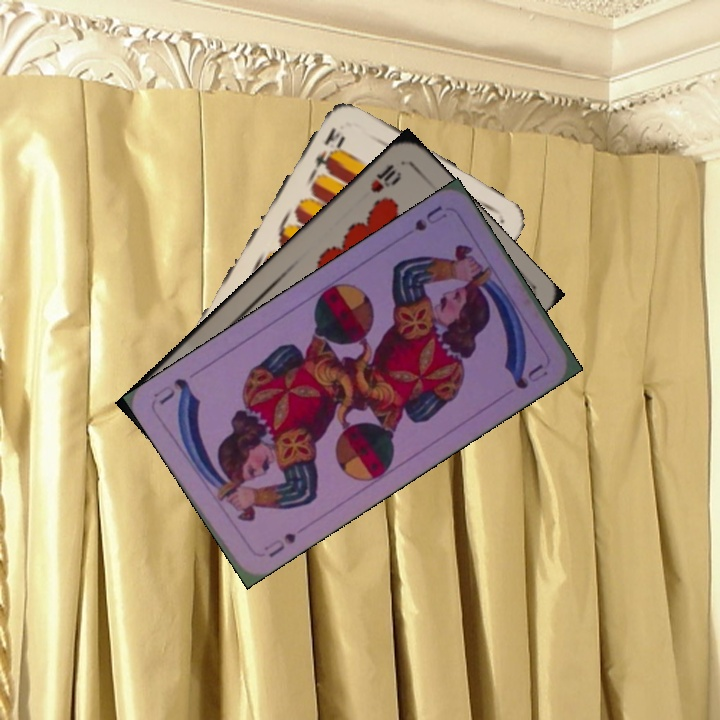E10: (308, 123, 348, 179)
H10: (366, 160, 404, 196)
SU: (410, 201, 450, 234), (259, 528, 299, 560)
